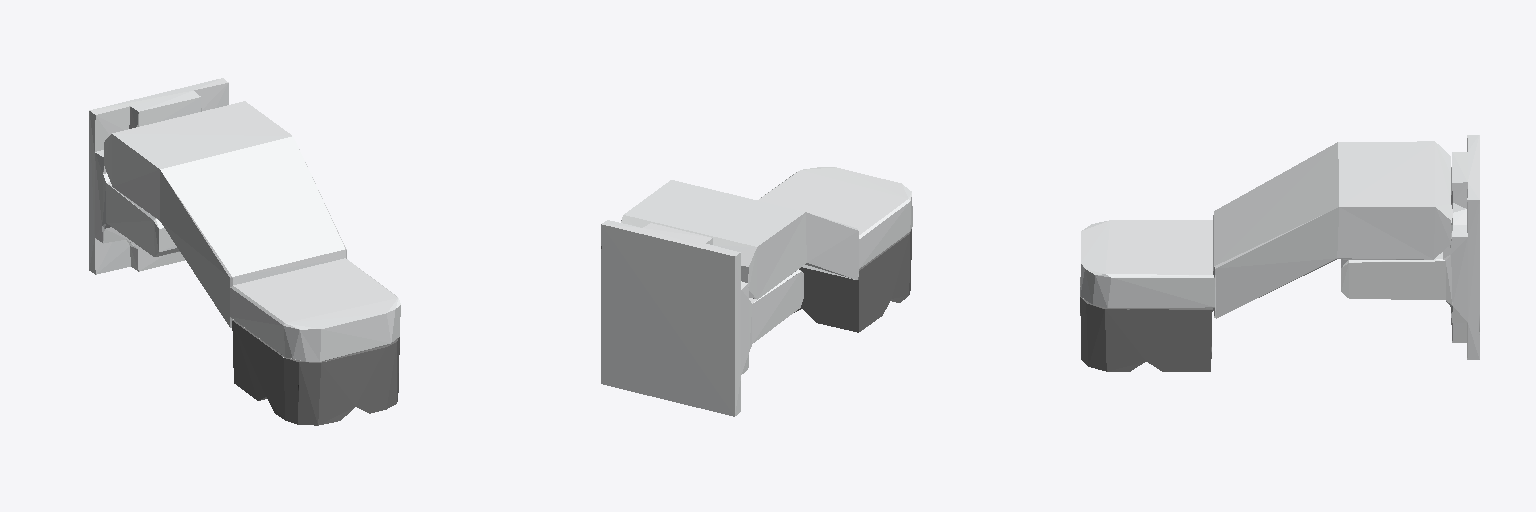
The picture shows the model from 3 angles: view 1: azimuth 30°, elevation 25°; view 2: azimuth 150°, elevation 25°; view 3: azimuth 270°, elevation 25°; orthographic projection.
Parts seen in each view (by area): view 1: node0; view 2: node0; view 3: node0.
Part boxes in pixels (x1,y1,x2,y2): node0: (89,78,400,425); node0: (601,167,912,416); node0: (1080,135,1479,371).
Bounding box in the file's own units: 0.021 × 0.0264 × 0.0538.
Materials: 2 (1 with a texture image).